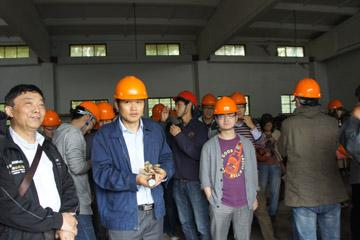helmet: (113, 76, 150, 102), (76, 102, 102, 132), (294, 78, 323, 101), (173, 92, 200, 111), (214, 97, 239, 116), (41, 110, 64, 128), (98, 102, 117, 121), (152, 104, 166, 123), (202, 94, 218, 108), (232, 93, 248, 106), (329, 101, 344, 113)
